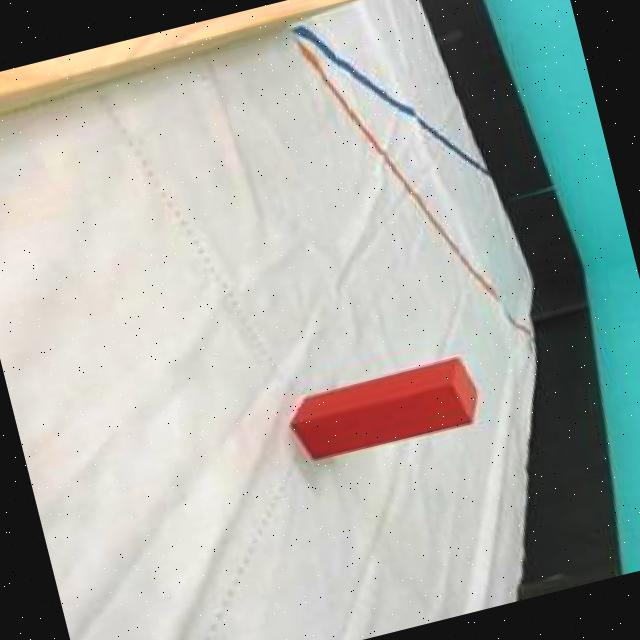redbox: (284, 350, 486, 468)
